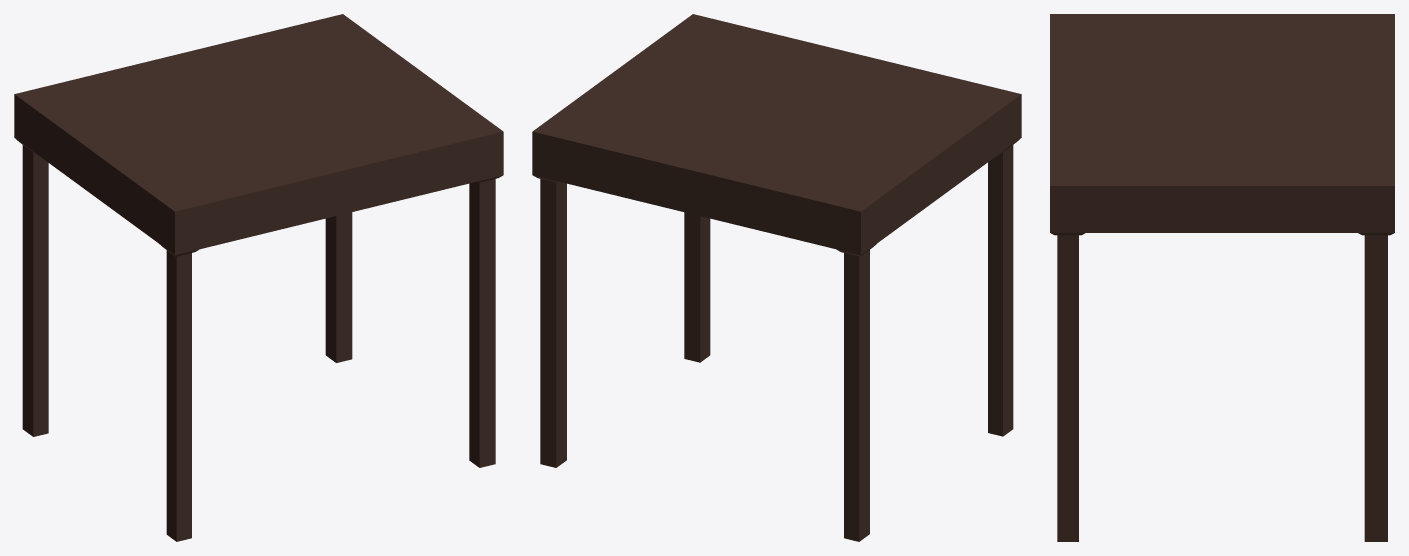
File: Small_table.fbx
3 views of the same model, side by side, from view 1: azimuth 30°, elevation 25°; view 2: azimuth 150°, elevation 25°; view 3: azimuth 270°, elevation 25° (orthographic). The views are drawn at different scales.
Visible parts, largest first — view 1: Small_Table_obj1; view 2: Small_Table_obj1; view 3: Small_Table_obj1.
Boxes of the visible parts, x1,y1,x2,y2 form: Small_Table_obj1: (14, 14, 503, 541); Small_Table_obj1: (532, 14, 1021, 541); Small_Table_obj1: (1050, 14, 1394, 541).
Size of the model in its own units: 73.81 by 71.69 by 62.5.
